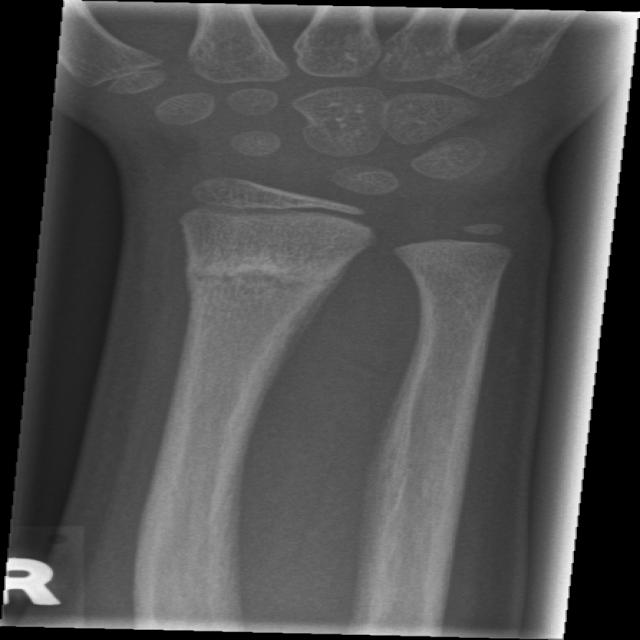radius fracture: (145, 236, 383, 339)
